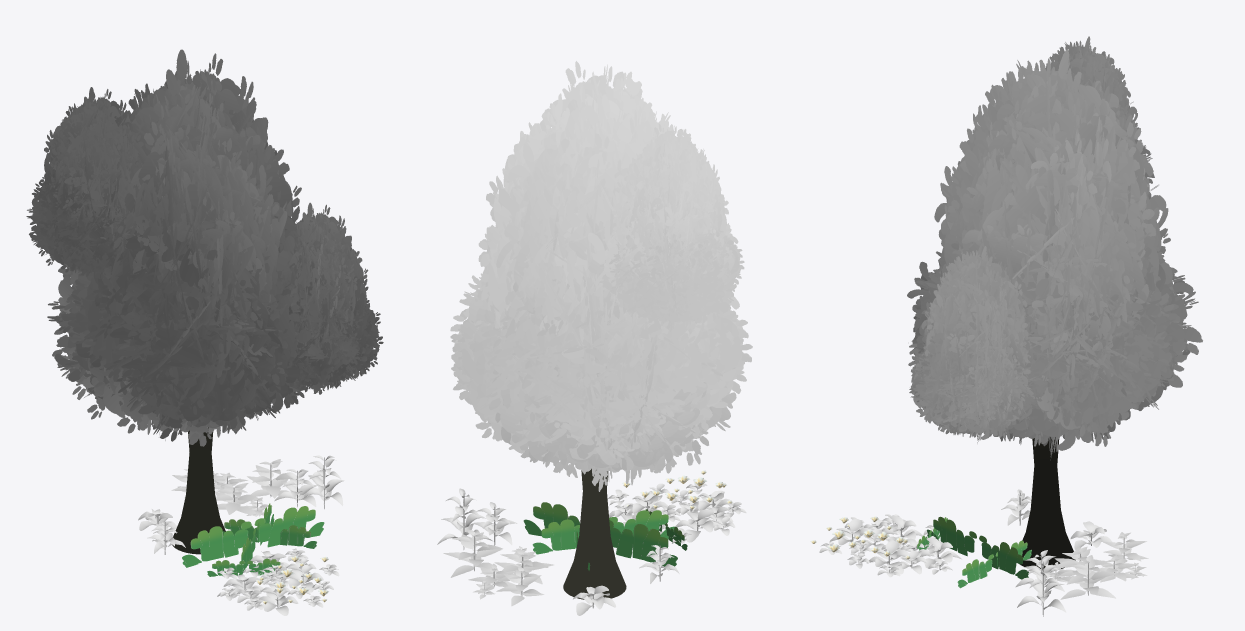
File: compositing sketch.fbx
3 views of the same model, side by side, from view 1: azimuth 30°, elevation 25°; view 2: azimuth 150°, elevation 25°; view 3: azimuth 270°, elevation 25° (orthographic). The views are drawn at different scales.
Parts seen in each view (by area): view 1: BUSH NORMAL.001, rumput, Plane, Plane.058, Plane.002, bunga putih.1, daun2.005; view 2: BUSH NORMAL.001, rumput, Plane, Plane.058, Plane.002, daun2.002, bunga putih.1, daun2.005; view 3: BUSH NORMAL.001, Plane, Plane.058, rumput, Plane.002, bunga putih.1, daun2.002.
Boxes of the visible parts, left/top/right/bottom form: BUSH NORMAL.001: left=26, top=49, right=383, bottom=554; rumput: left=182, top=503, right=324, bottom=576; Plane: left=217, top=548, right=339, bottom=615; Plane.058: left=171, top=459, right=302, bottom=516; Plane.002: left=274, top=455, right=344, bottom=508; bunga putih.1: left=256, top=556, right=328, bottom=604; daun2.005: left=147, top=521, right=185, bottom=554; BUSH NORMAL.001: left=450, top=61, right=752, bottom=599; rumput: left=523, top=502, right=687, bottom=570; Plane: left=608, top=479, right=746, bottom=543; Plane.058: left=443, top=529, right=553, bottom=606; Plane.002: left=437, top=488, right=517, bottom=549; daun2.002: left=573, top=585, right=615, bottom=615; bunga putih.1: left=622, top=470, right=732, bottom=509; daun2.005: left=639, top=545, right=679, bottom=583; BUSH NORMAL.001: left=907, top=36, right=1202, bottom=569; Plane: left=819, top=514, right=961, bottom=577; Plane.058: left=1044, top=532, right=1148, bottom=599; rumput: left=917, top=516, right=1031, bottom=588; Plane.002: left=1015, top=550, right=1066, bottom=616; bunga putih.1: left=810, top=516, right=910, bottom=558; daun2.002: left=1070, top=521, right=1112, bottom=549.
Size of the model in its own units: 161 by 261 by 184.
